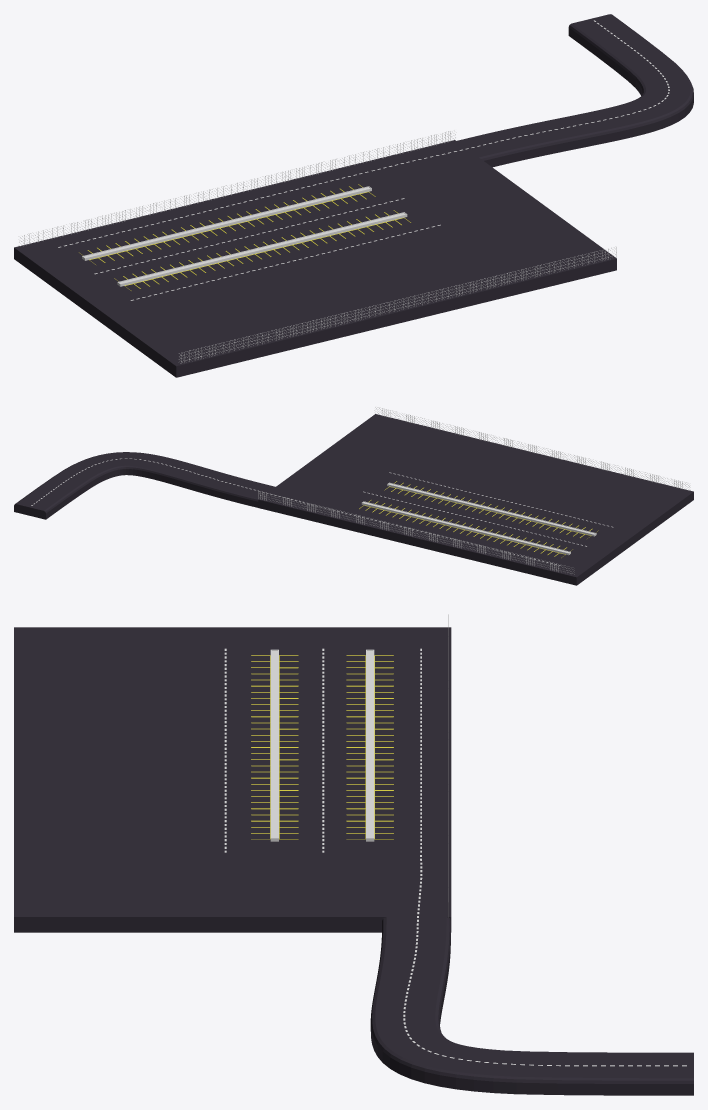
3 renders of one model, top to bottom at view 1: azimuth 30°, elevation 25°; view 2: azimuth 150°, elevation 25°; view 3: azimuth 270°, elevation 25°, orthographic. The views are drawn at different scales.
Visible parts, largest first — view 1: Parking lot stand, Cube.004, Plane, Flowers, Parking slots, Lines; view 2: Parking lot stand, Cube.004, Plane, Flowers, Parking slots, Lines; view 3: Parking lot stand, Cube.004, Parking slots, Flowers, Lines.
Part boxes in pixels (x1,y1,x2,y2): Parking lot stand: (14,140,616,377); Cube.004: (457,14,693,167); Plane: (18,129,616,363); Flowers: (82,186,407,286); Parking slots: (79,184,410,290); Lines: (58,171,440,300); Parking lot stand: (258,414,693,585); Cube.004: (14,452,275,519); Plane: (258,407,690,574); Flowers: (361,482,596,555); Parking slots: (359,481,598,557); Lines: (337,472,613,565); Parking lot stand: (14,627,451,932); Cube.004: (370,917,693,1095); Parking slots: (251,655,393,839); Flowers: (270,649,374,841); Lines: (224,648,421,852).
Bounding box in the file's own units: 12443 × 394 × 7895.
